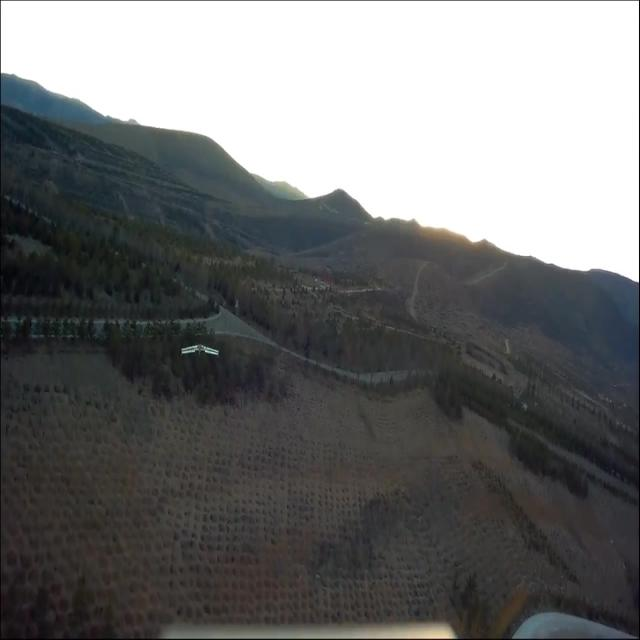iha: (175, 342, 213, 360)
